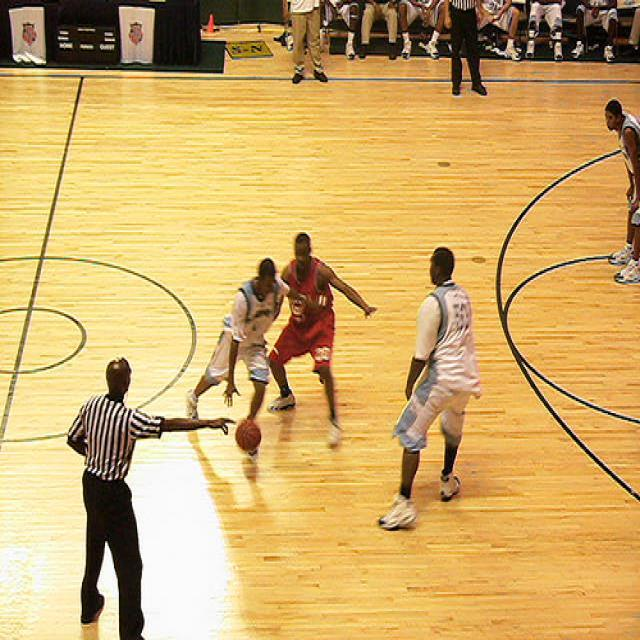basketball: (233, 419, 264, 457)
